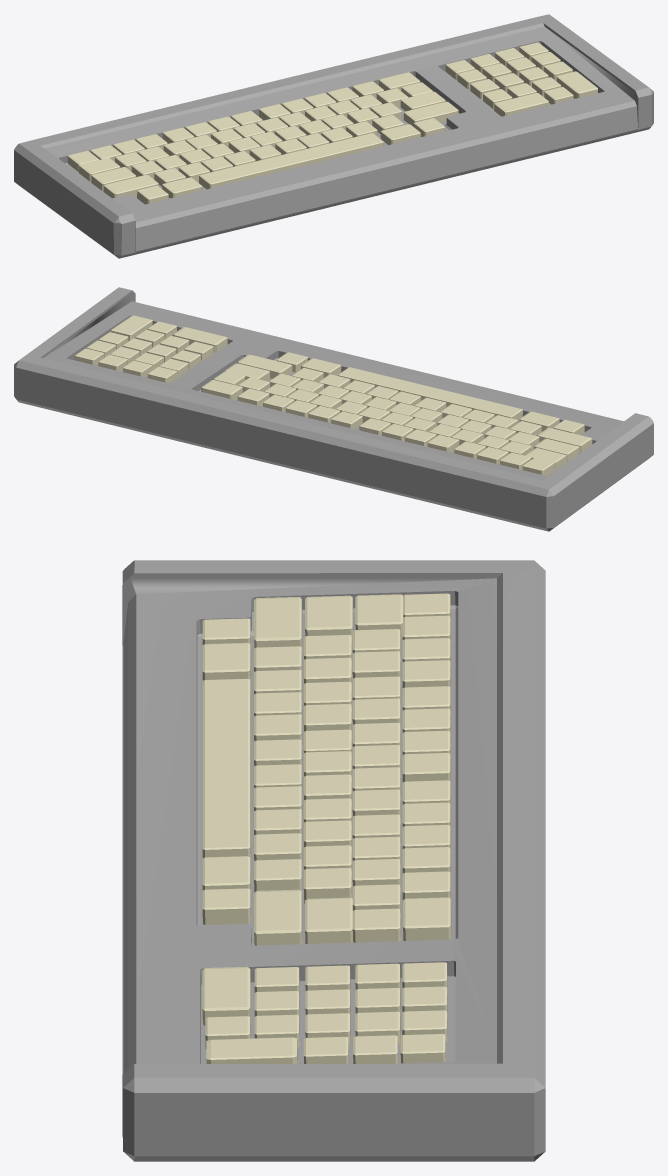
Rendered from Teclado.fbx.
3 renders of one model, top to bottom at view 1: azimuth 30°, elevation 25°; view 2: azimuth 150°, elevation 25°; view 3: azimuth 270°, elevation 25°, orthographic. The views are drawn at different scales.
Parts seen in each view (by area): view 1: Teclado, Teclas; view 2: Teclado, Teclas; view 3: Teclado, Teclas.
Boxes of the visible parts, box(x1,y1,x2,y2) form: Teclado: box(14, 14, 653, 258); Teclas: box(67, 42, 597, 204); Teclado: box(14, 287, 653, 531); Teclas: box(74, 315, 592, 475); Teclado: box(122, 560, 545, 1161); Teclas: box(202, 593, 451, 1063).
Size of the model in its own units: 0.0151 by 0.00113 by 0.00513.
